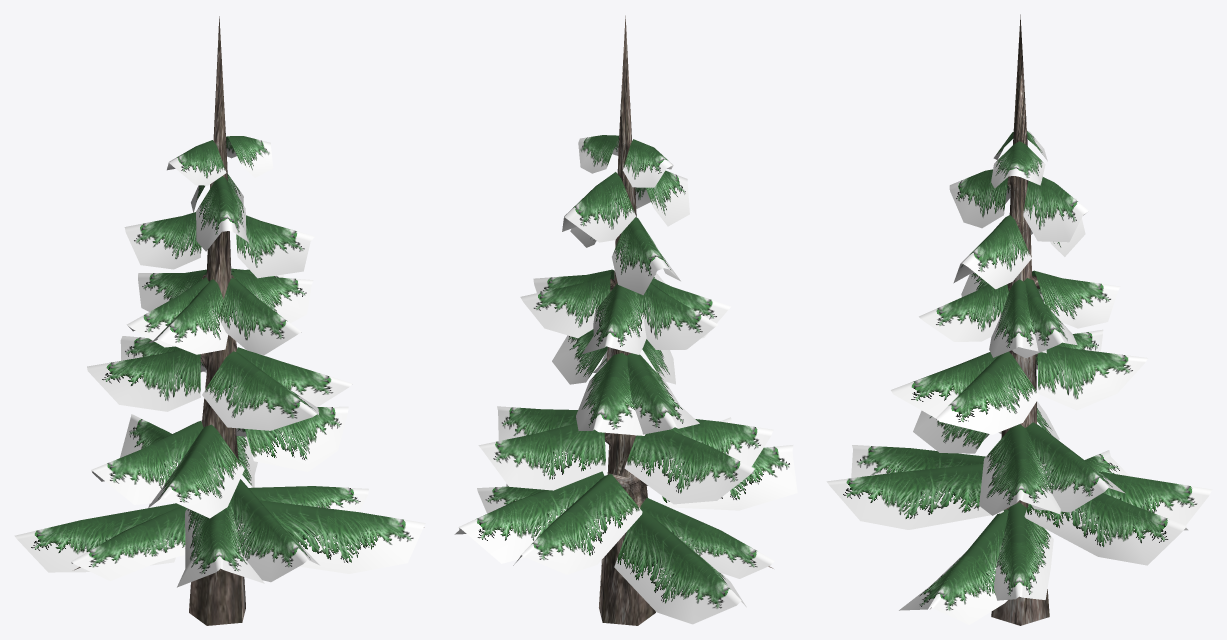
File: PineTransp.obj
The picture shows the model from 3 angles, left to right: view 1: azimuth 30°, elevation 25°; view 2: azimuth 150°, elevation 25°; view 3: azimuth 270°, elevation 25°; orthographic projection.
Parts seen in each view (by area): view 1: Mesh_PineNeedles, Mesh_PineTrunk; view 2: Mesh_PineNeedles, Mesh_PineTrunk; view 3: Mesh_PineNeedles, Mesh_PineTrunk.
Part boxes in pixels (bbox=[...]): Mesh_PineNeedles: bbox=[14, 136, 425, 587]; Mesh_PineTrunk: bbox=[74, 16, 424, 625]; Mesh_PineNeedles: bbox=[454, 135, 797, 624]; Mesh_PineTrunk: bbox=[599, 15, 773, 625]; Mesh_PineNeedles: bbox=[826, 130, 1212, 624]; Mesh_PineTrunk: bbox=[930, 14, 1105, 625].
Bounding box in the file's own units: 3.62 × 6.45 × 3.77.
2 materials, 2 textured.
